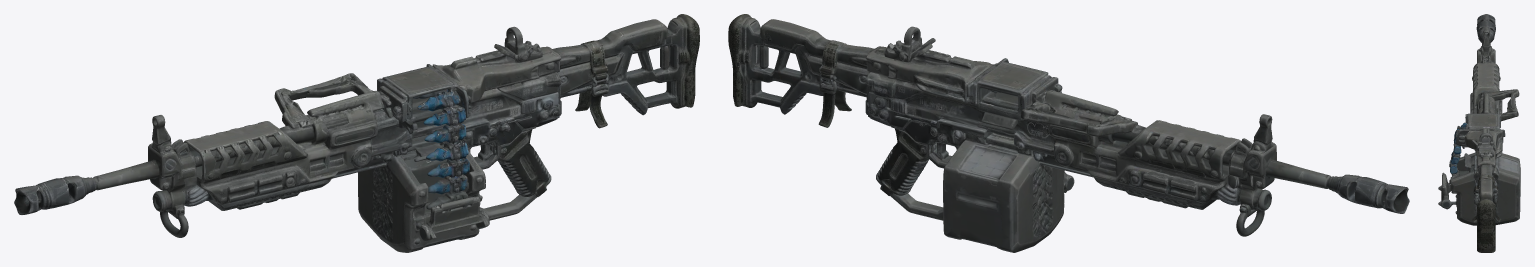
File: lmg.glb
3 renders of one model, left to right at view 1: azimuth 30°, elevation 25°; view 2: azimuth 150°, elevation 25°; view 3: azimuth 270°, elevation 25°, orthographic. The views are drawn at different scales.
Bounding box in the file's own units: 1.9 × 0.4967 × 0.3364.
1 material, 1 textured.
